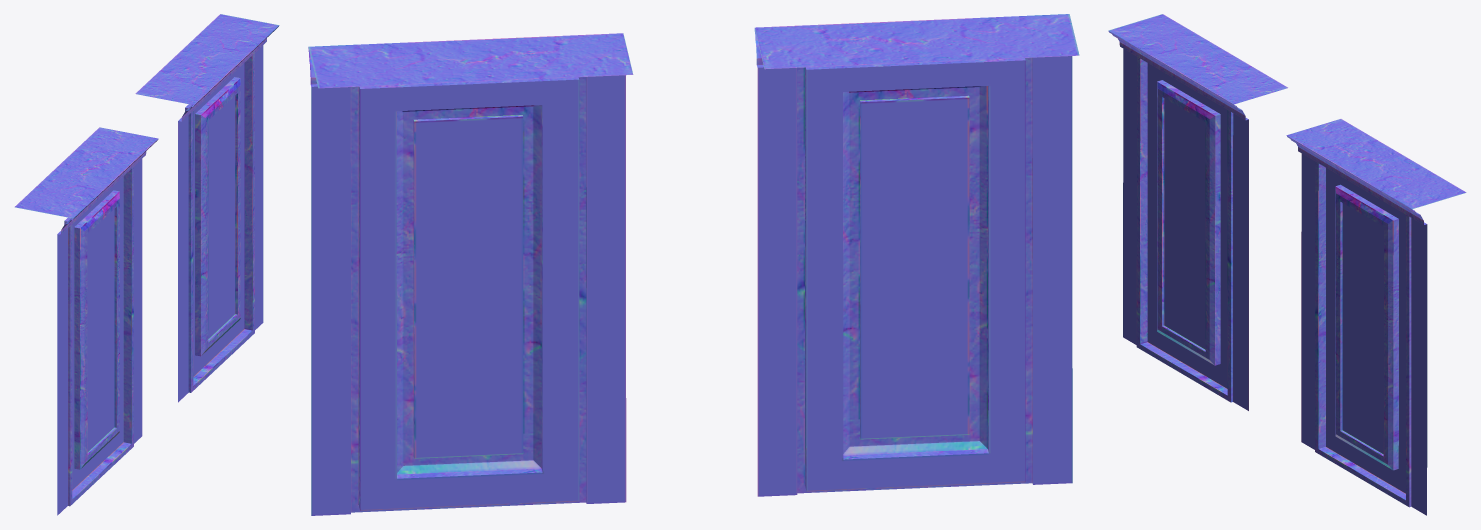
The picture shows the model from 3 angles, left to right: view 1: azimuth 30°, elevation 25°; view 2: azimuth 150°, elevation 25°; view 3: azimuth 270°, elevation 25°; orthographic projection. The views are drawn at different scales.
Visible parts, largest first — view 1: _2F_brick_low_009; view 2: _2F_brick_low_009; view 3: _2F_brick_low_009.
Boxes of the visible parts, bbox=[...] form: _2F_brick_low_009: bbox=[14, 14, 279, 515]; _2F_brick_low_009: bbox=[308, 14, 1079, 515]; _2F_brick_low_009: bbox=[1108, 14, 1466, 515].
Size of the model in its own units: 438 by 326 by 341.
